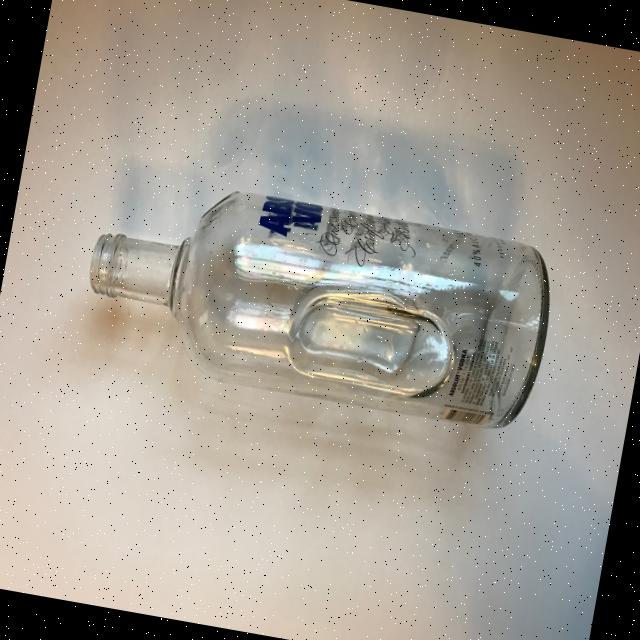glass: (74, 165, 562, 438)
